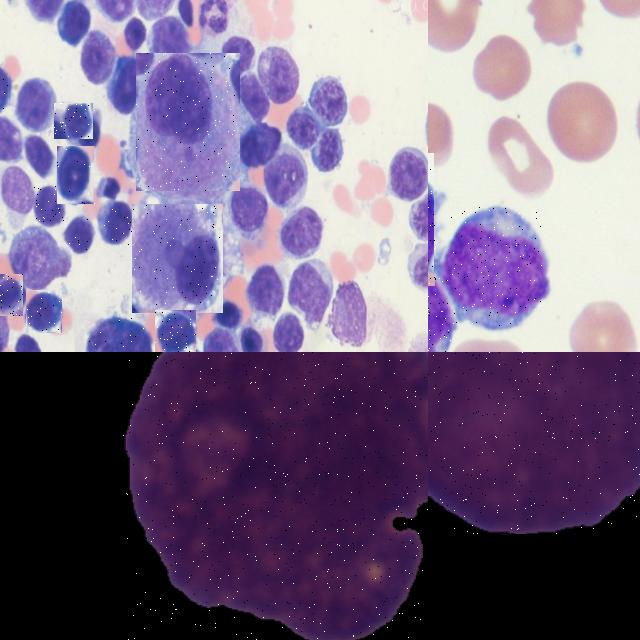ALL Negative Cells: (428, 352, 640, 534), (136, 53, 240, 191), (132, 204, 223, 313)
ALL Positive Cell: (124, 352, 428, 640), (450, 206, 542, 326), (82, 313, 149, 352), (58, 146, 96, 204), (428, 274, 451, 352), (155, 310, 195, 352), (26, 290, 62, 333), (54, 103, 93, 139), (102, 209, 132, 248), (34, 185, 64, 222), (66, 219, 95, 251), (0, 274, 22, 315), (0, 63, 9, 111)
